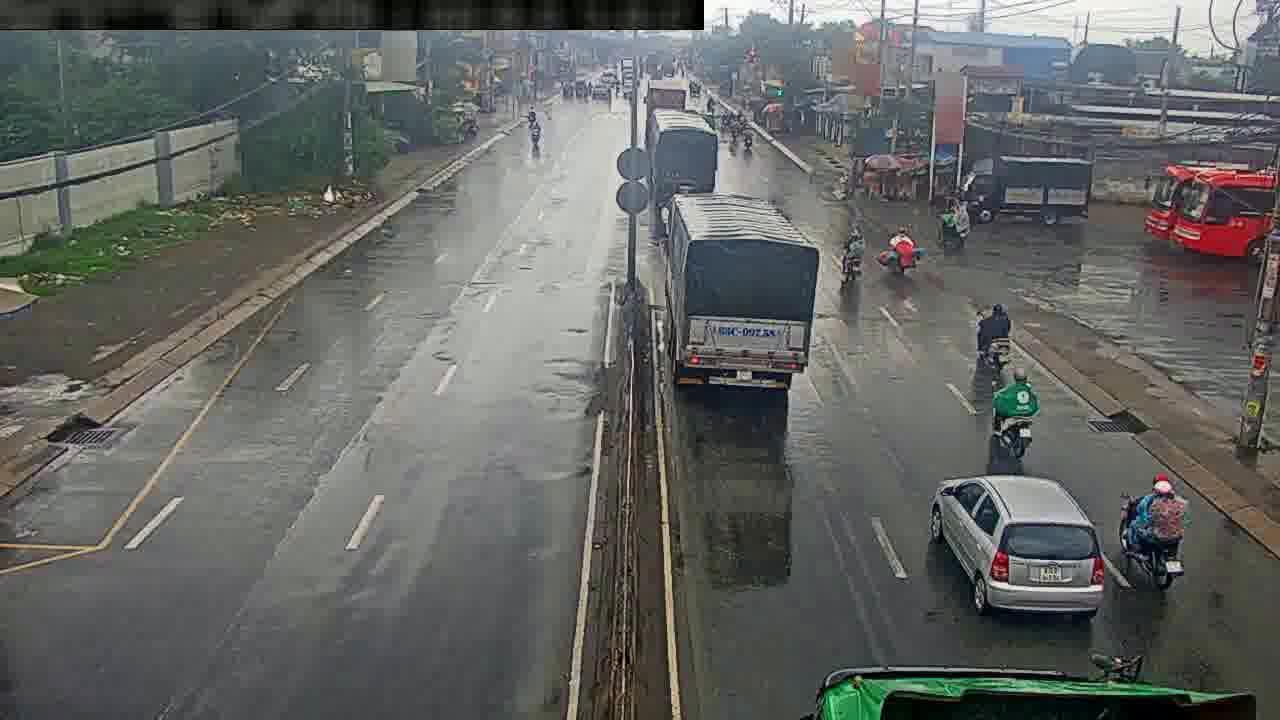car: (923, 460, 1110, 617)
container: (661, 196, 824, 391), (648, 108, 724, 194)
motorbike: (1123, 468, 1186, 598), (991, 361, 1038, 463), (979, 296, 1010, 372), (891, 225, 916, 278), (841, 225, 863, 282), (944, 198, 965, 245), (736, 117, 754, 151), (527, 115, 543, 150)
